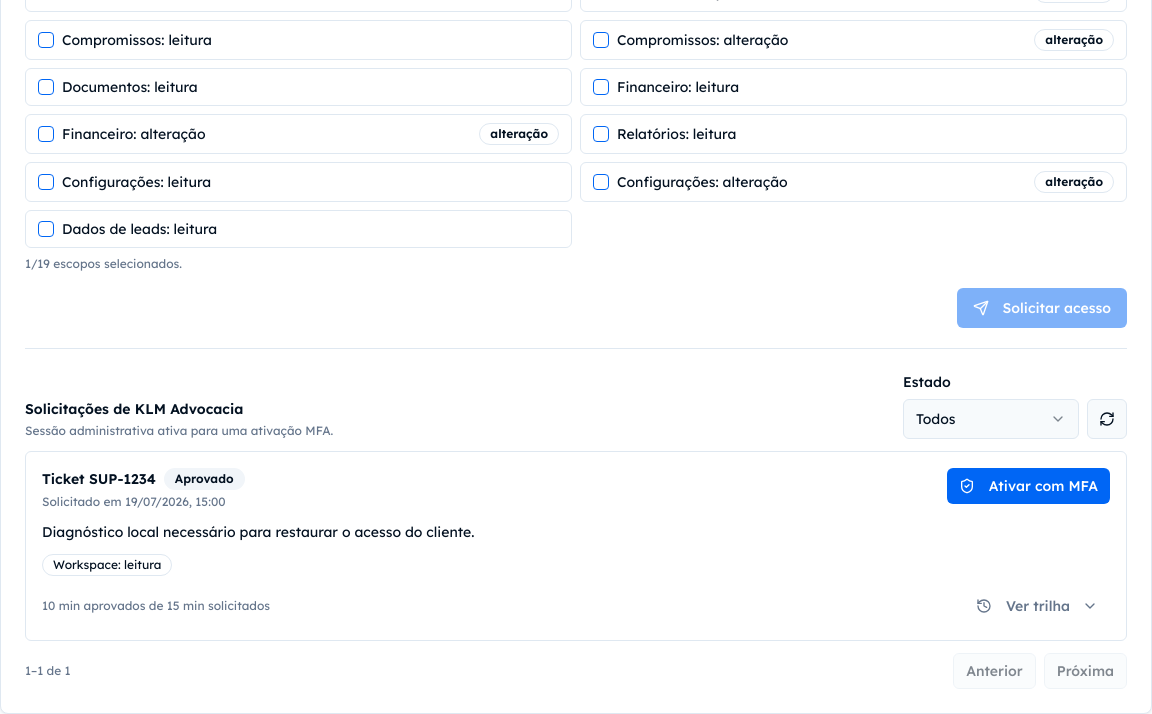
Test case: PlatformSupportAccessPanel › shows the platform audit trail on demand
(page scrolled)
Click the button "Ver trilha": click(1037, 606) top-left (964, 588), bottom-right (1110, 624)
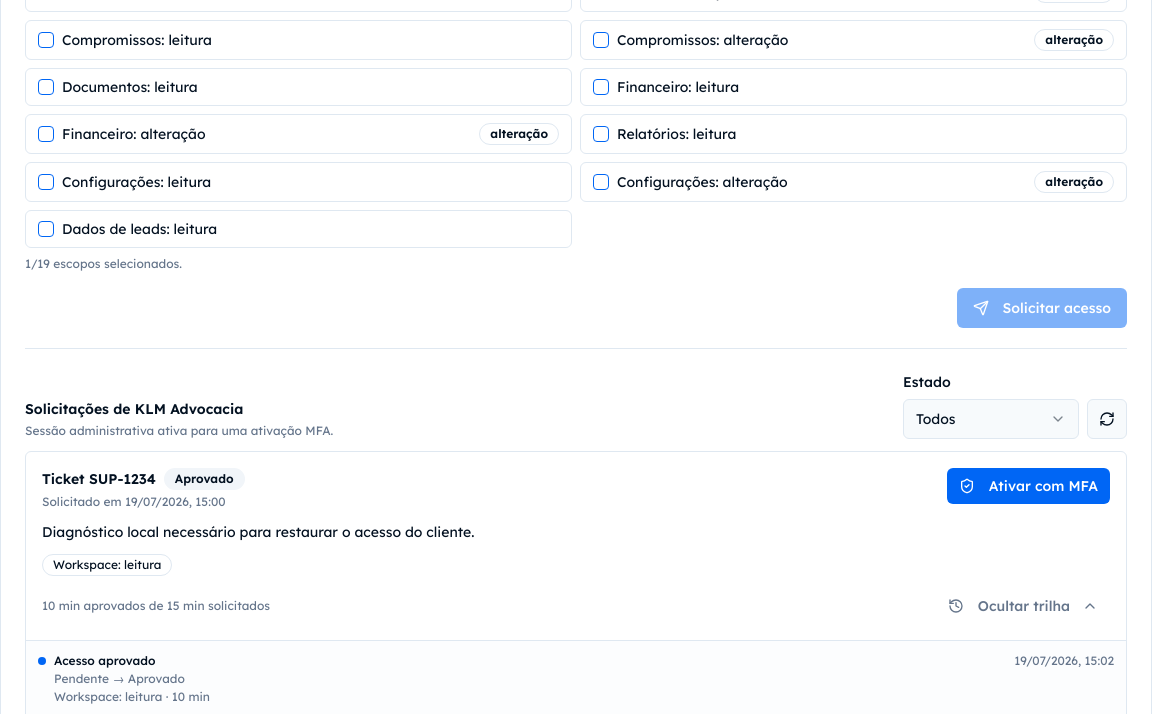
Now the text "Acesso aprovado" is shown, box top-left (54, 653), bottom-right (156, 669)
